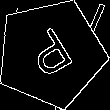P_SE: (22, 23, 80, 84)
